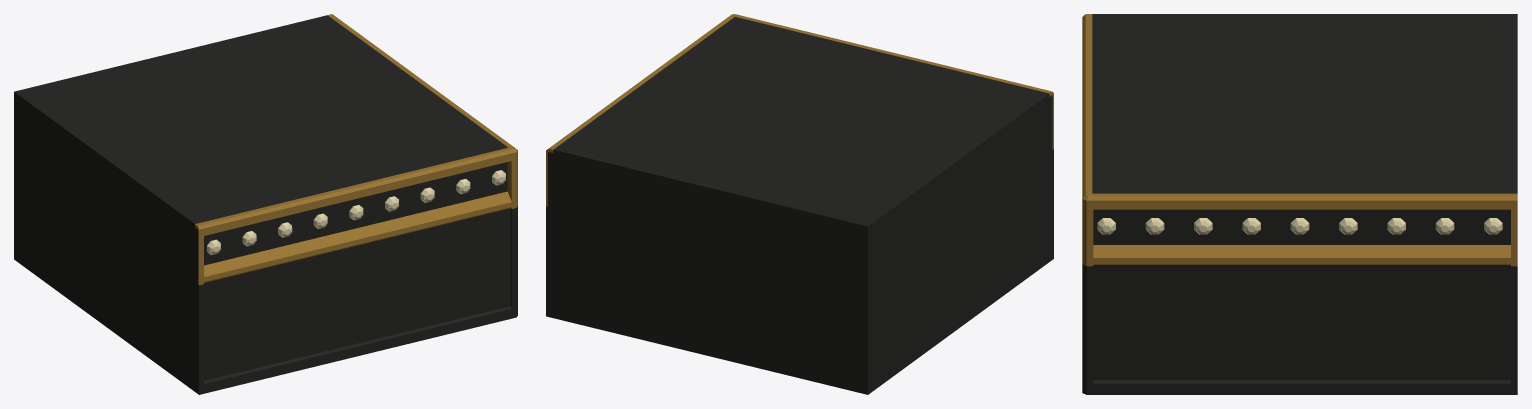
File: showroom-stage-deck-c250e2.glb
3 renders of one model, left to right at view 1: azimuth 30°, elevation 25°; view 2: azimuth 150°, elevation 25°; view 3: azimuth 270°, elevation 25°, orthographic. The views are drawn at different scales.
Parts seen in each view (by area): view 1: stage-deck; view 2: stage-deck; view 3: stage-deck.
Part boxes in pixels (<box>): stage-deck: <box>14,14,517,394</box>; stage-deck: <box>546,14,1053,394</box>; stage-deck: <box>1082,14,1517,394</box>.
Bounding box in the file's own units: 2 × 1 × 2.
